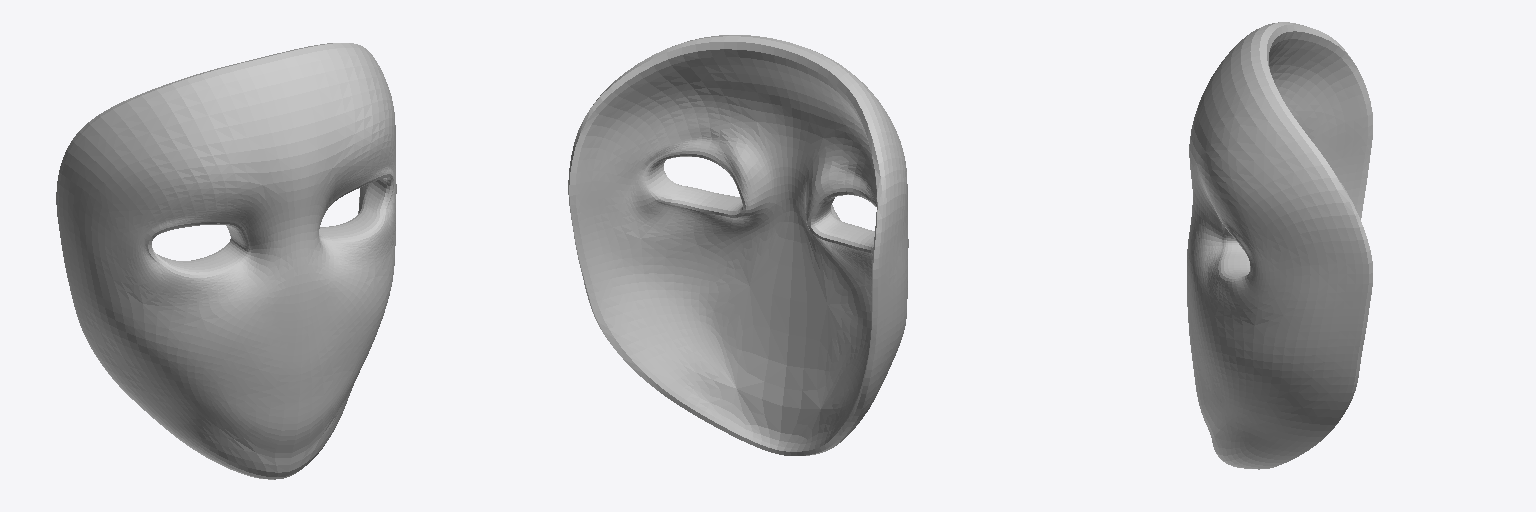
The model's file is mask_base_harf_mirror_solid.obj.
3 views of the same model, side by side, from view 1: azimuth 30°, elevation 25°; view 2: azimuth 150°, elevation 25°; view 3: azimuth 270°, elevation 25° (orthographic).
Parts seen in each view (by area): view 1: body_Circle; view 2: body_Circle; view 3: body_Circle.
Part boxes in pixels (left/top/right/bottom): body_Circle: left=56, top=43, right=396, bottom=479; body_Circle: left=568, top=35, right=908, bottom=455; body_Circle: left=1187, top=22, right=1372, bottom=469.
Size of the model in its own units: 16.67 by 21.1 by 8.66.